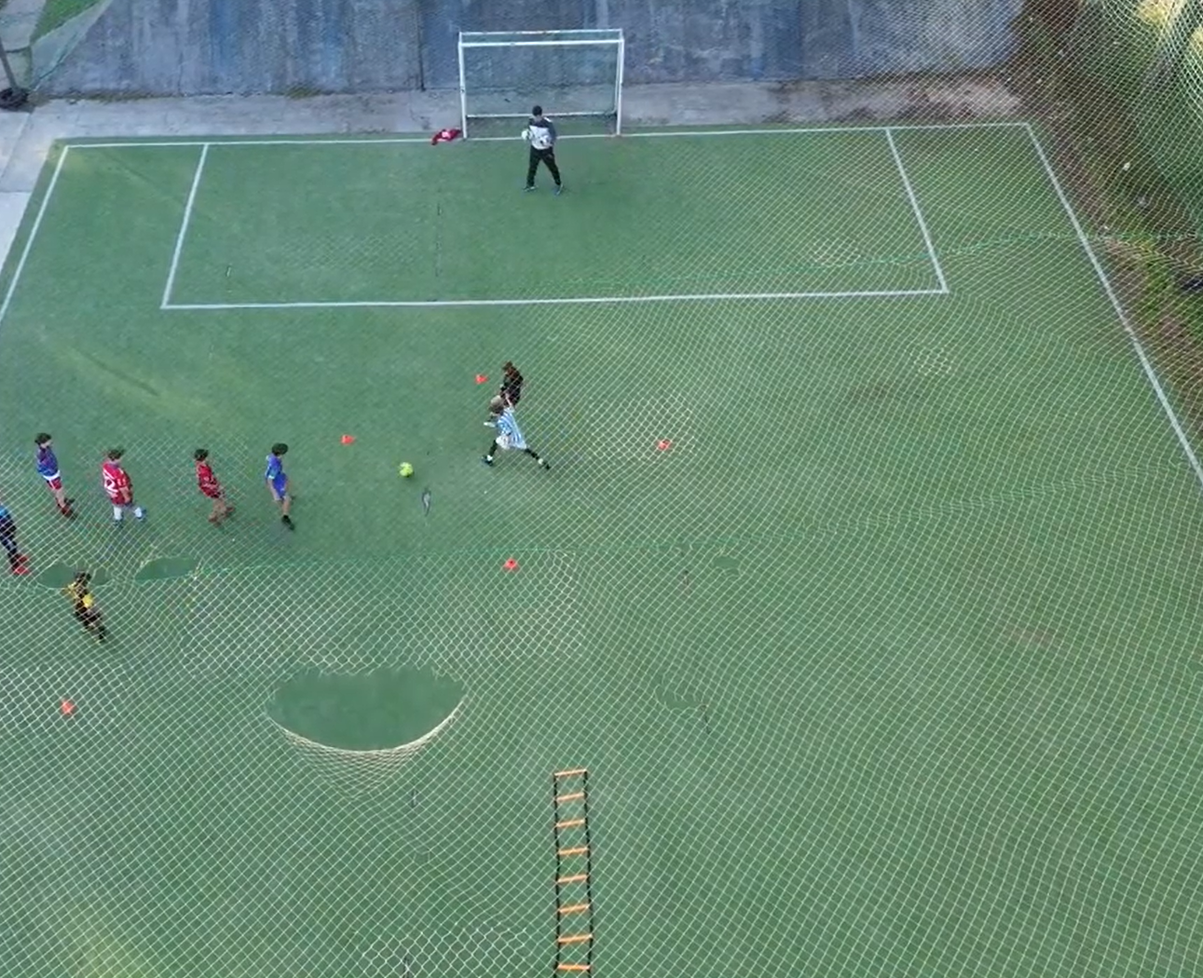cone: (489, 549, 532, 582), (649, 429, 680, 460), (50, 699, 86, 720), (334, 425, 360, 451), (473, 363, 492, 396)
goal: (441, 24, 637, 146)
ladder: (537, 747, 611, 978)
